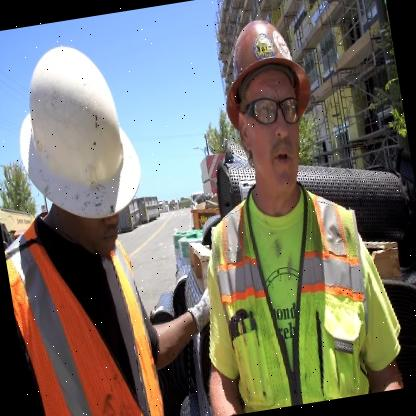capacete: (2, 32, 154, 239), (208, 5, 320, 126)
